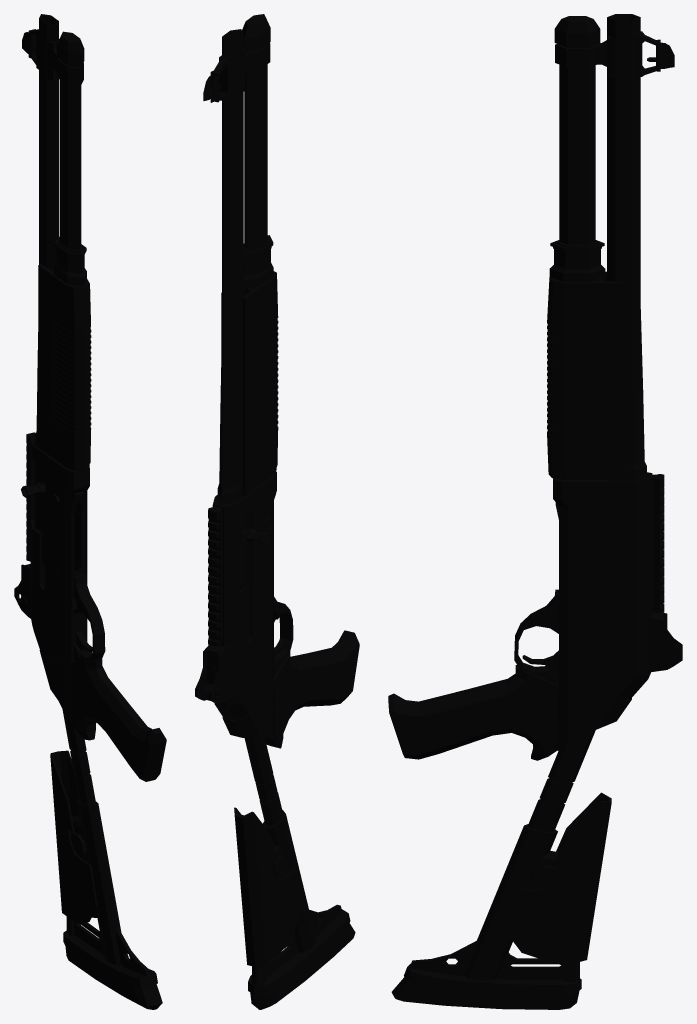
File: BenelliM4.fbx
The picture shows the model from 3 angles, left to right: view 1: azimuth 30°, elevation 25°; view 2: azimuth 150°, elevation 25°; view 3: azimuth 270°, elevation 25°; orthographic projection. The views are drawn at different scales.
Visible parts, largest first — view 1: asset_BenelliM4.001; view 2: asset_BenelliM4.001; view 3: asset_BenelliM4.001.
Boxes of the visible parts, bbox=[...] form: asset_BenelliM4.001: bbox=[14, 14, 166, 1009]; asset_BenelliM4.001: bbox=[195, 14, 359, 1009]; asset_BenelliM4.001: bbox=[388, 14, 682, 1009].
Size of the model in its own units: 0.0275 by 0.606 by 0.1633.
